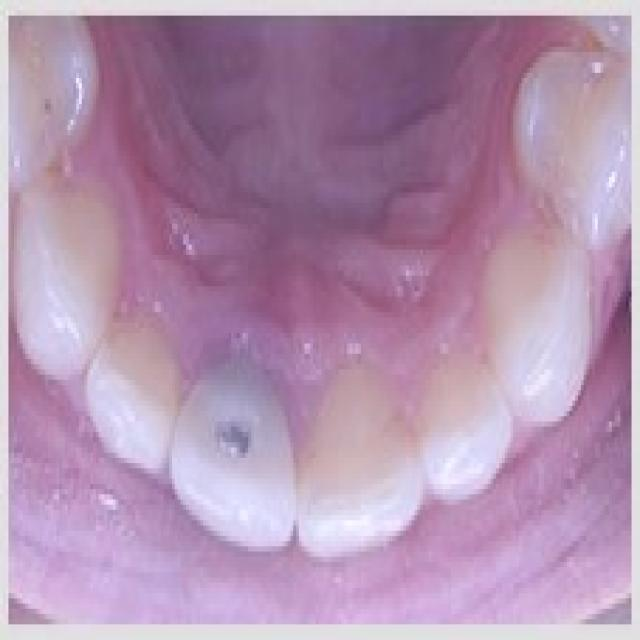tooth: (169, 349, 293, 588), (17, 57, 104, 385), (499, 21, 640, 218), (296, 385, 409, 598), (485, 214, 595, 416), (403, 333, 502, 526), (99, 323, 178, 494)
